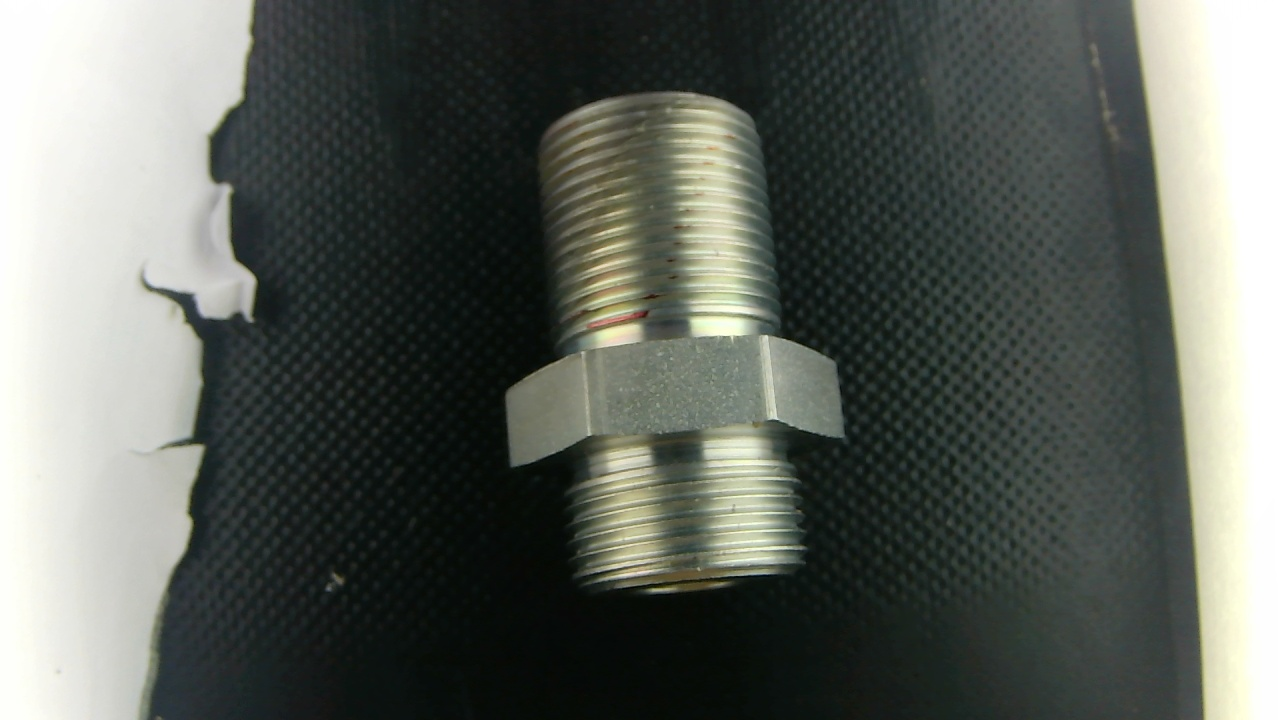blackpatch: (525, 83, 704, 302)
